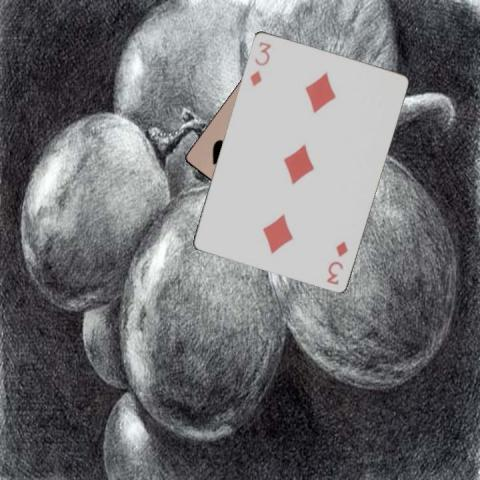3d: (246, 38, 272, 87), (324, 237, 350, 286)
